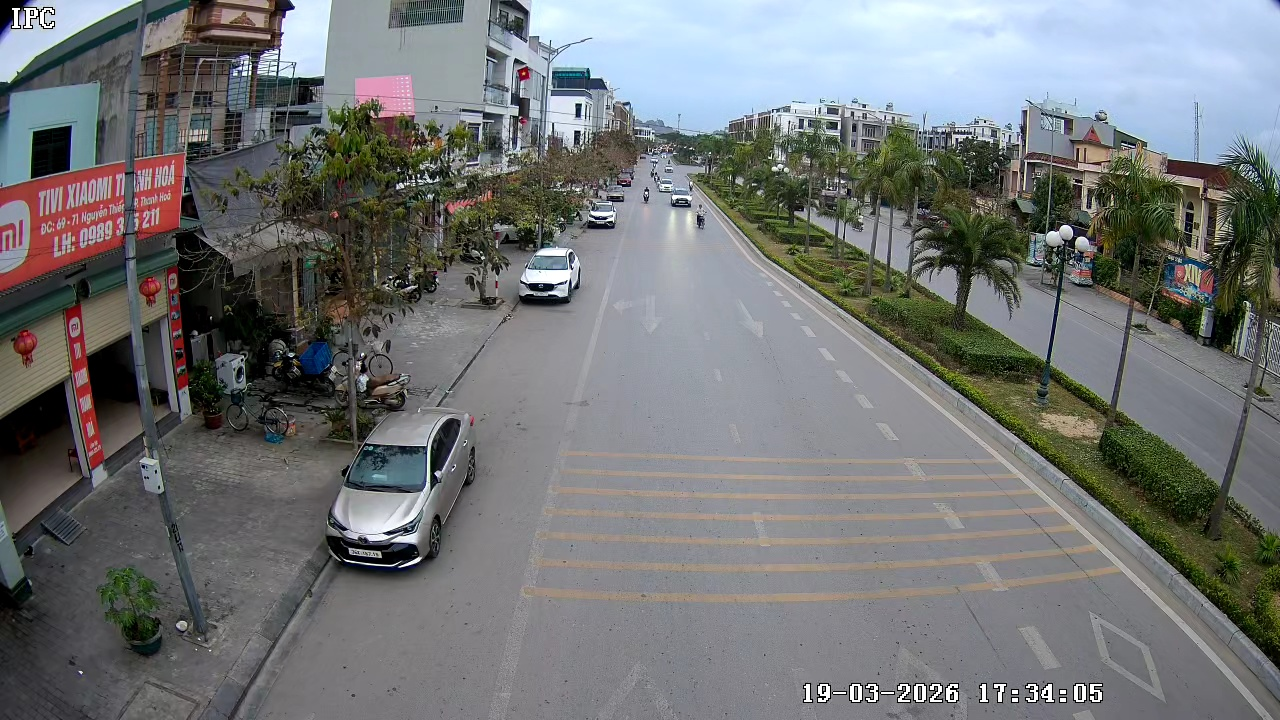car: (325, 407, 478, 570), (518, 245, 583, 304), (583, 197, 619, 230), (669, 186, 692, 208)
motorbike: (353, 342, 413, 412), (640, 185, 653, 205)
